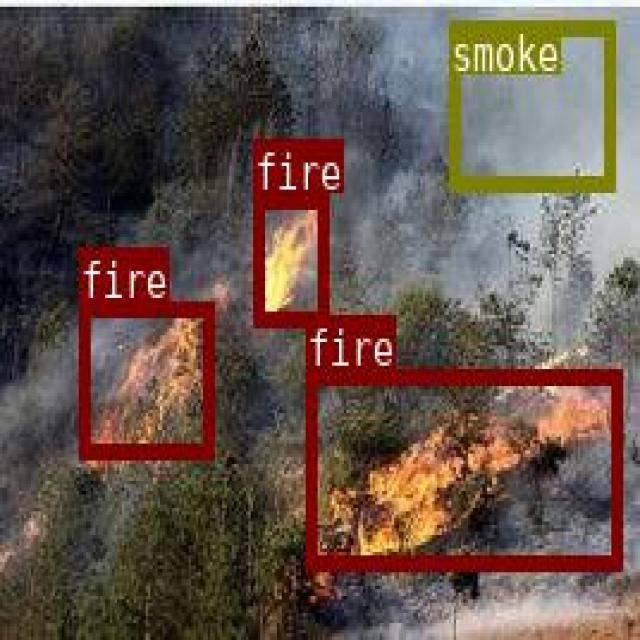fire: (306, 368, 620, 566), (78, 301, 213, 457), (252, 192, 326, 324)
smoke: (448, 18, 613, 189)
